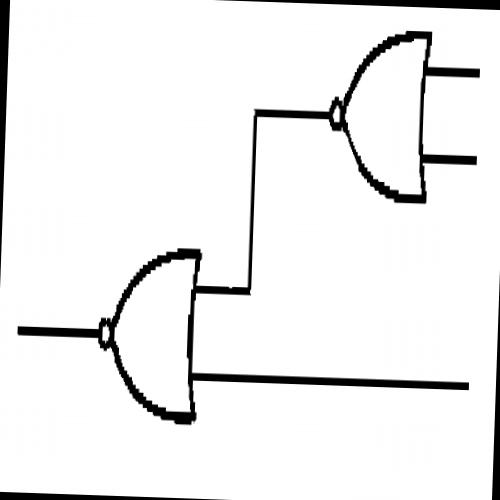nor: (90, 232, 204, 430), (321, 17, 435, 210)
